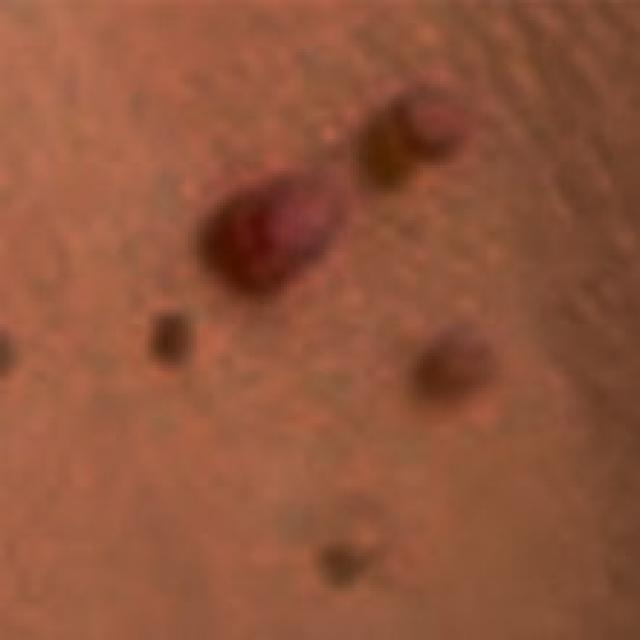wart: (194, 174, 348, 286), (356, 90, 458, 182), (408, 324, 501, 406), (310, 512, 388, 588)
